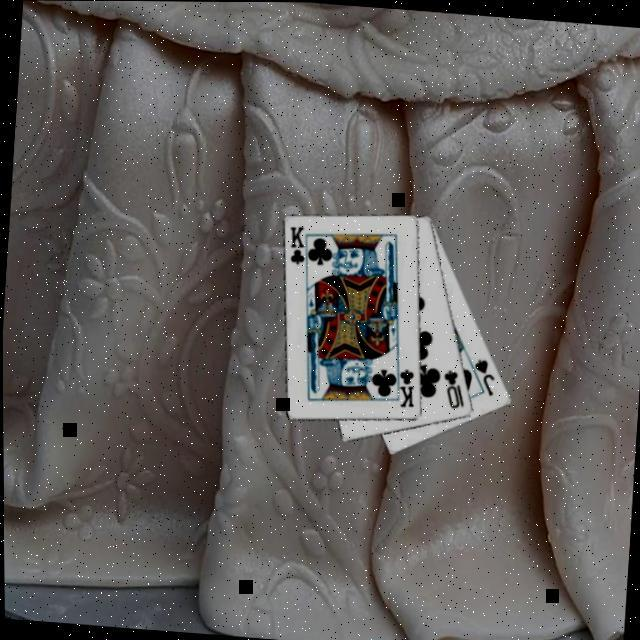10C: (436, 362, 466, 408)
JS: (467, 353, 496, 395)
KC: (282, 220, 312, 269), (388, 360, 417, 408)
